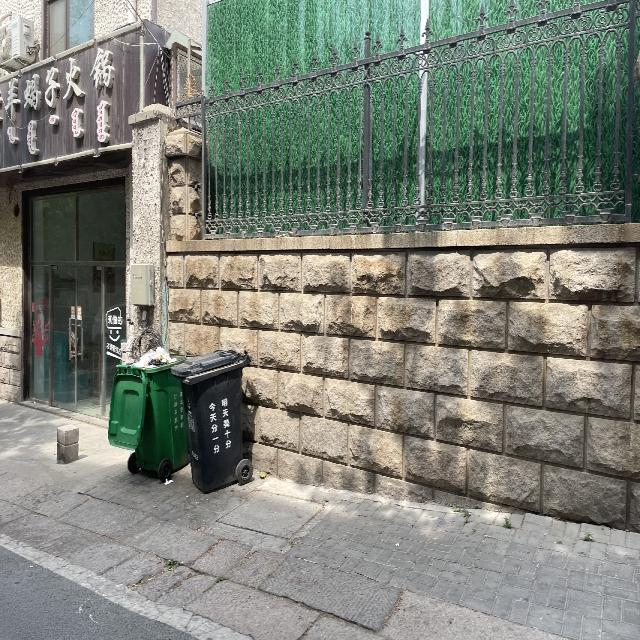garbage_bin: (172, 350, 248, 492)
overflow: (108, 343, 188, 471)
